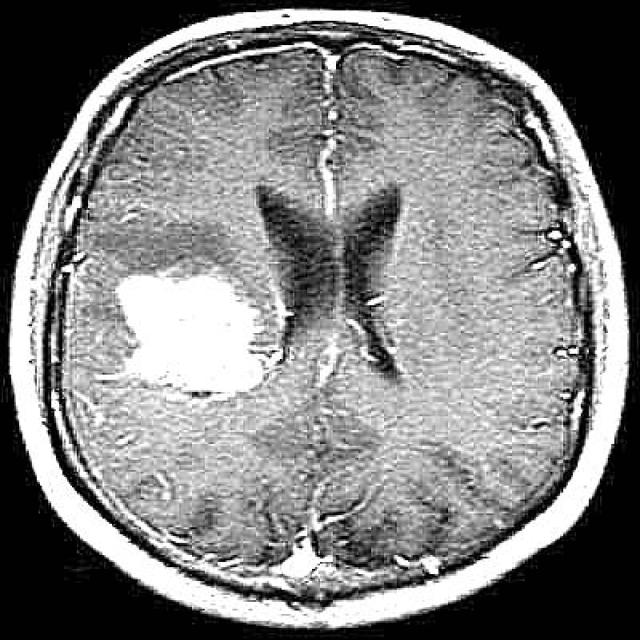Tumor-Cell: (120, 262, 260, 388)
